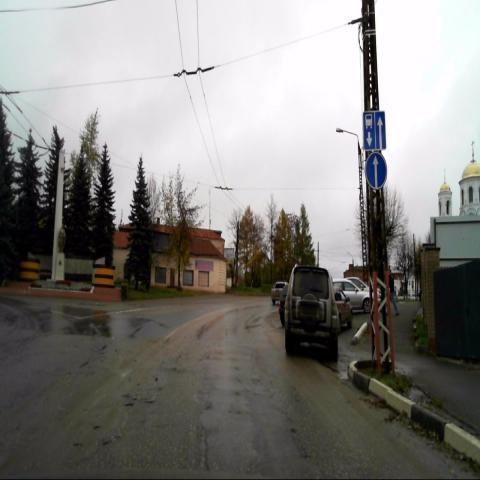5_11: (362, 111, 386, 150)
